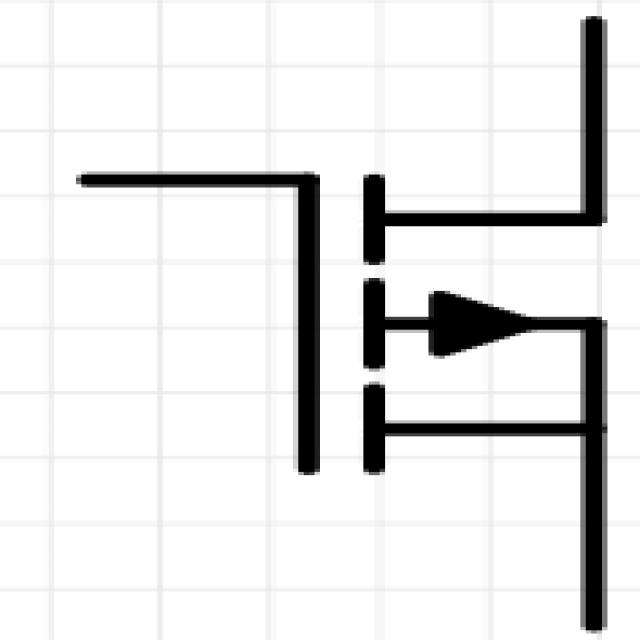pmos: (68, 48, 640, 640)
